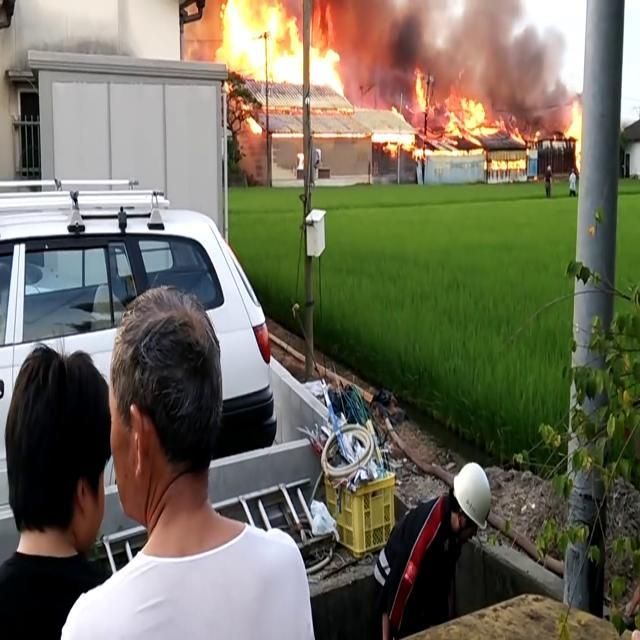Fire: (216, 0, 344, 94), (414, 75, 501, 136), (383, 140, 483, 158), (564, 104, 584, 168), (489, 157, 527, 170)
